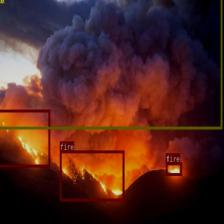fire: (59, 150, 124, 201), (0, 109, 50, 166), (166, 162, 182, 175)
smoke: (0, 0, 222, 129)
